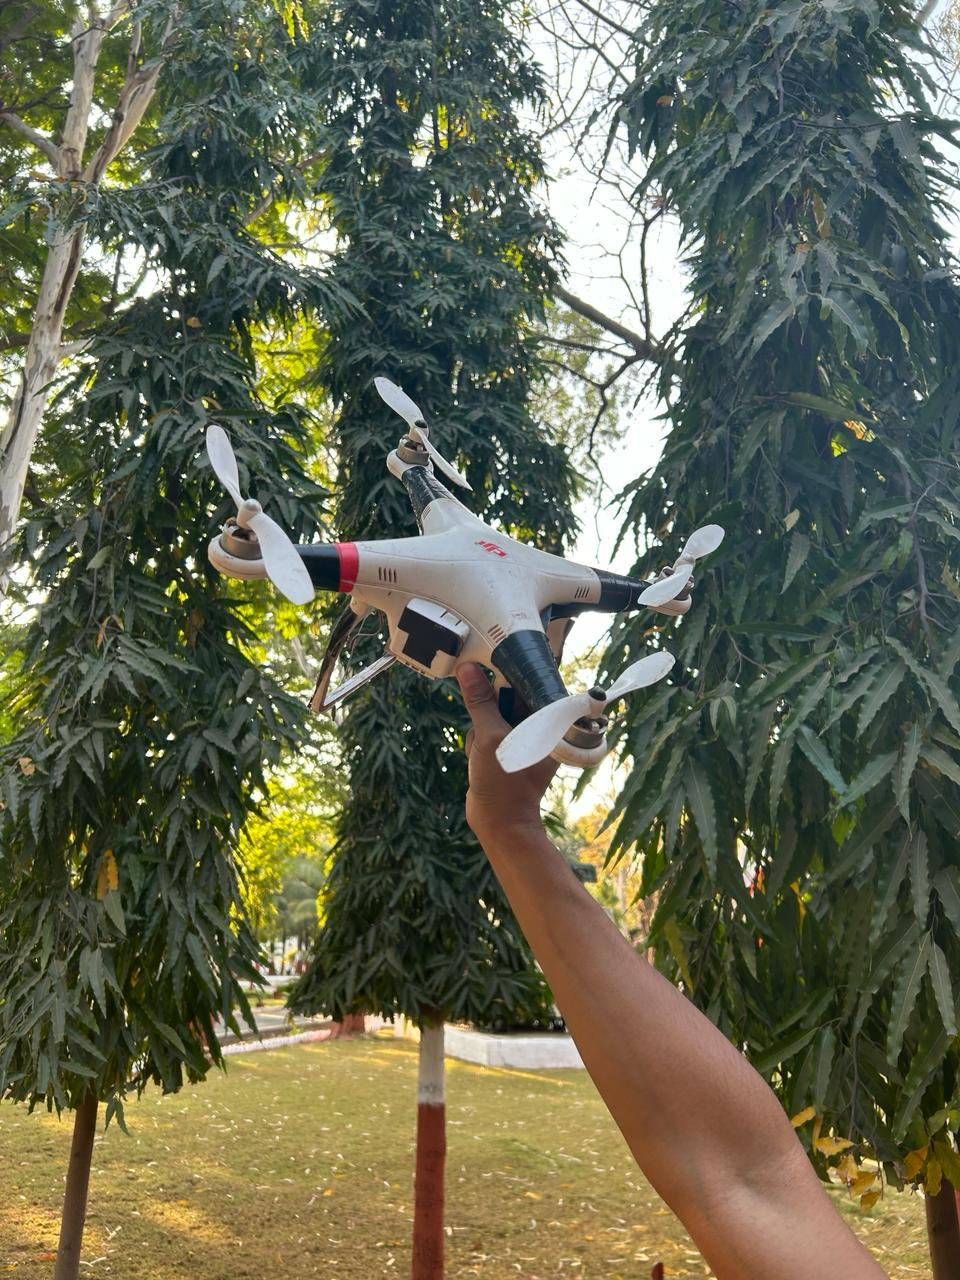drone: (154, 348, 777, 796)
